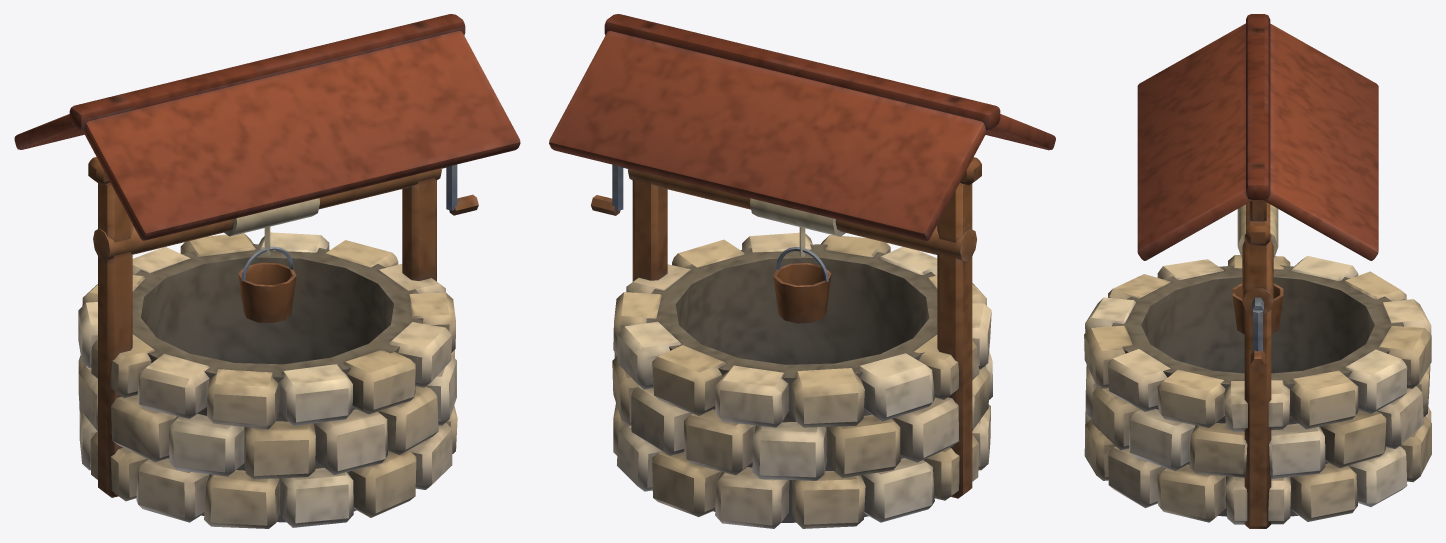
The model's file is Source_Well.glb.
The picture shows the model from 3 angles, left to right: view 1: azimuth 30°, elevation 25°; view 2: azimuth 150°, elevation 25°; view 3: azimuth 270°, elevation 25°; orthographic projection. The views are drawn at different scales.
Visible parts, largest first — view 1: Source_Well; view 2: Source_Well; view 3: Source_Well.
Boxes of the visible parts, bbox=[...] form: Source_Well: bbox=[14, 14, 520, 528]; Source_Well: bbox=[549, 14, 1055, 528]; Source_Well: bbox=[1084, 14, 1431, 528].
Bounding box in the file's own units: 8.7 × 8.15 × 7.15.
Materials: 1 (1 with a texture image).
